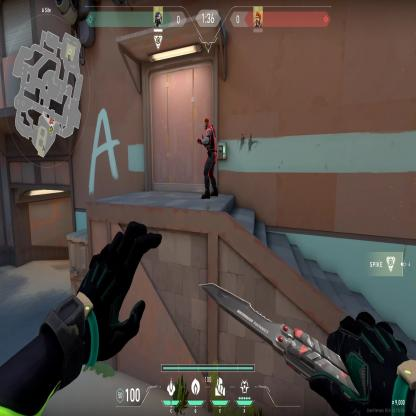enemy: (196, 114, 219, 202)
